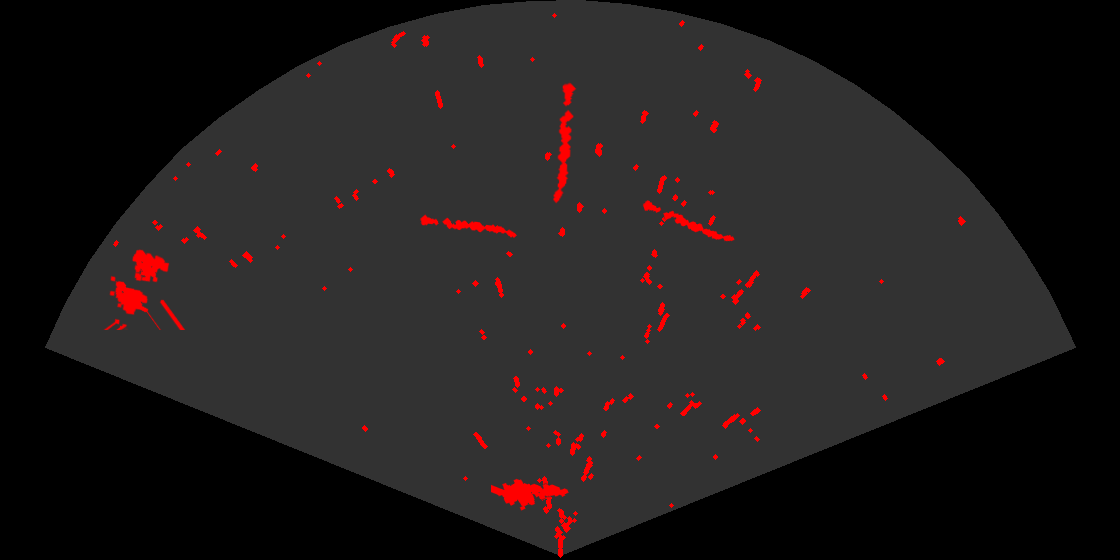cage: (102, 248, 187, 330)
chain: (641, 199, 736, 243), (552, 81, 578, 205), (418, 213, 518, 239)
frogman: (491, 477, 570, 512)
